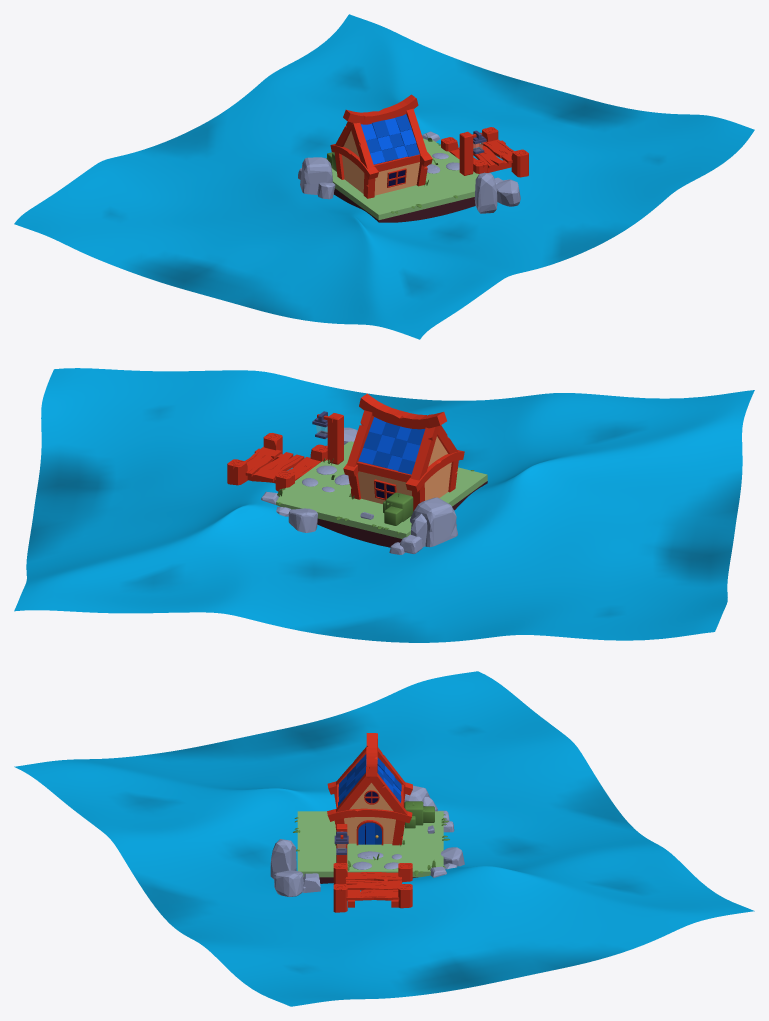
The model's file is casa.glb.
The picture shows the model from 3 angles, top to bottom: view 1: azimuth 30°, elevation 25°; view 2: azimuth 150°, elevation 25°; view 3: azimuth 270°, elevation 25°; orthographic projection. The views are drawn at different scales.
Parts seen in each view (by area): view 1: Sea, Base, PAREDES, Cubo.056, Cubo.004, Cubo.103, Cubo.046, Cubo.102; view 2: Sea, Base, PAREDES, Cubo.056, Cubo.004, Cubo.046, Cubo.006, Cubo.041, Cubo.026, Cubo.005, Cubo.055, Cubo.038 (+3 smaller); view 3: Sea, Base, PAREDES, Cubo.103, Cubo.001, Cubo.102, puerta, Cubo.038.
Part boxes in pixels (x1,y1,x2,y2): Sea: [14, 14, 754, 339]; Base: [331, 138, 478, 222]; PAREDES: [342, 130, 419, 195]; Cubo.056: [300, 157, 333, 194]; Cubo.004: [343, 94, 418, 124]; Cubo.103: [474, 172, 497, 213]; Cubo.046: [459, 131, 473, 175]; Cubo.102: [496, 179, 520, 206]; Sea: [14, 368, 754, 642]; Base: [276, 441, 487, 547]; PAREDES: [357, 436, 451, 503]; Cubo.056: [410, 497, 457, 547]; Cubo.004: [359, 393, 446, 429]; Cubo.046: [327, 413, 343, 464]; Cubo.006: [410, 426, 439, 480]; Cubo.041: [255, 452, 304, 481]; Cubo.026: [405, 450, 464, 492]; Cubo.005: [347, 410, 373, 466]; Cubo.055: [288, 508, 317, 532]; Cubo.038: [244, 446, 281, 476]; Sea: [14, 671, 754, 1006]; Base: [297, 811, 443, 883]; PAREDES: [344, 783, 395, 843]; Cubo.103: [270, 839, 296, 879]; Cubo.001: [327, 808, 412, 823]; Cubo.102: [274, 870, 303, 896]; puerta: [356, 820, 383, 845]; Cubo.038: [346, 889, 399, 900].
Size of the model in its own units: 70.84 by 10.61 by 66.1.
